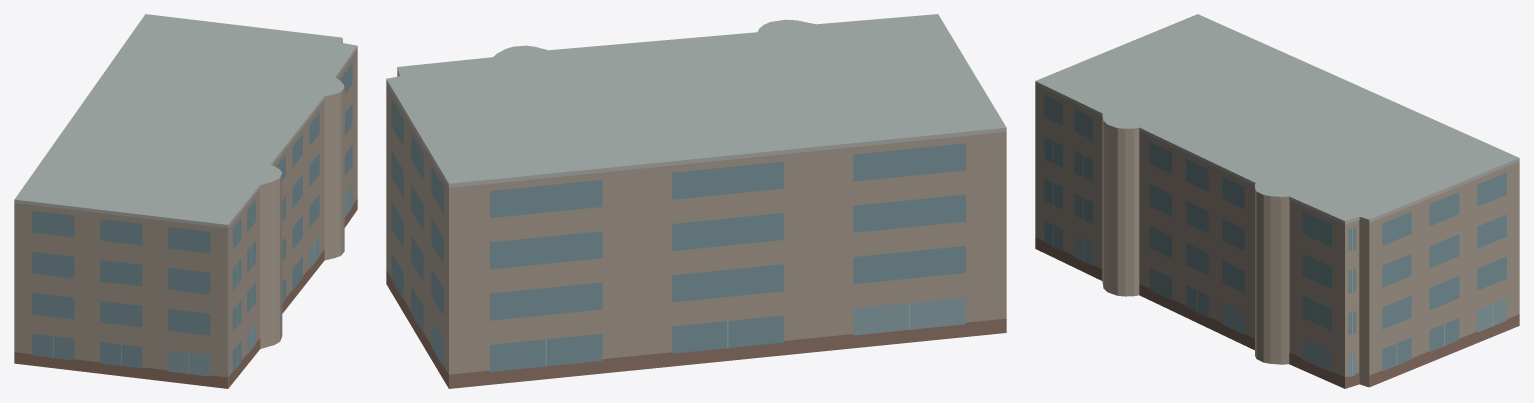
Rendered from survey-upis-32839782.glb.
3 renders of one model, left to right at view 1: azimuth 30°, elevation 25°; view 2: azimuth 150°, elevation 25°; view 3: azimuth 270°, elevation 25°, orthographic. The views are drawn at different scales.
Visible parts, largest first — view 1: survey-upis-32839782.tmp; view 2: survey-upis-32839782.tmp; view 3: survey-upis-32839782.tmp.
Boxes of the visible parts, x1=… form: survey-upis-32839782.tmp: x1=14, y1=14, x2=357, y2=388; survey-upis-32839782.tmp: x1=386, y1=14, x2=1006, y2=388; survey-upis-32839782.tmp: x1=1035, y1=14, x2=1519, y2=388.
Size of the model in its own units: 32.33 by 12.2 by 31.95.
